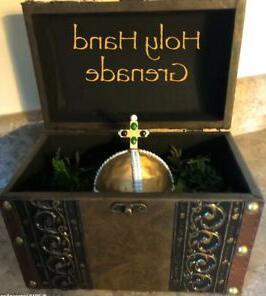Grenade: (93, 111, 175, 194)
